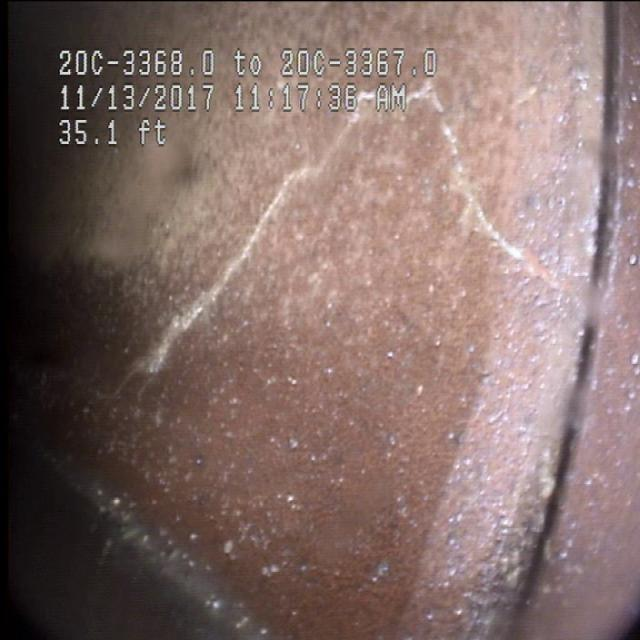Crack: (56, 29, 595, 421)
